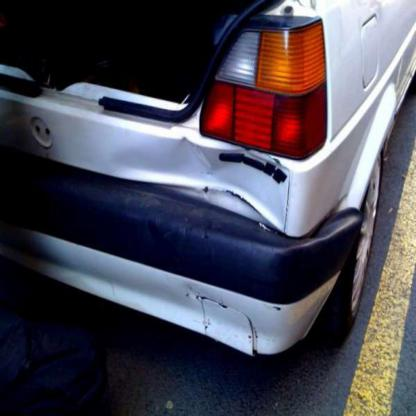headlamp: (201, 18, 327, 158)
rear_bumper: (3, 56, 401, 354)
